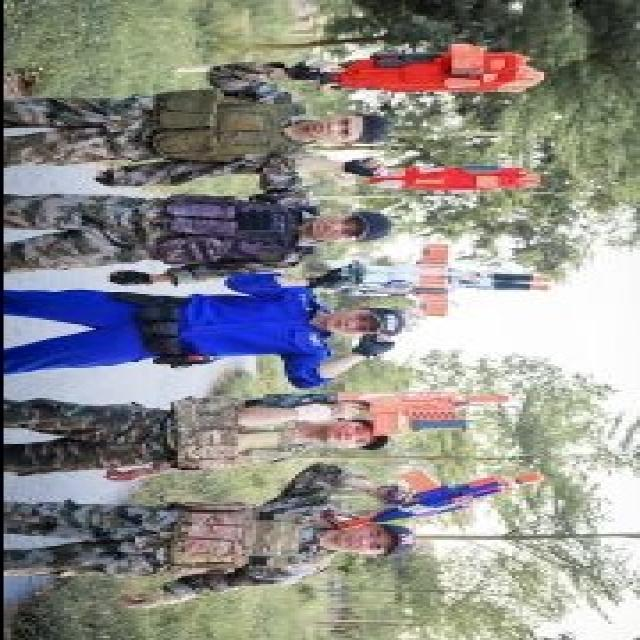Nerf gun: (299, 237, 569, 319), (256, 33, 548, 103), (311, 463, 557, 533), (294, 381, 532, 439), (326, 152, 556, 196)
